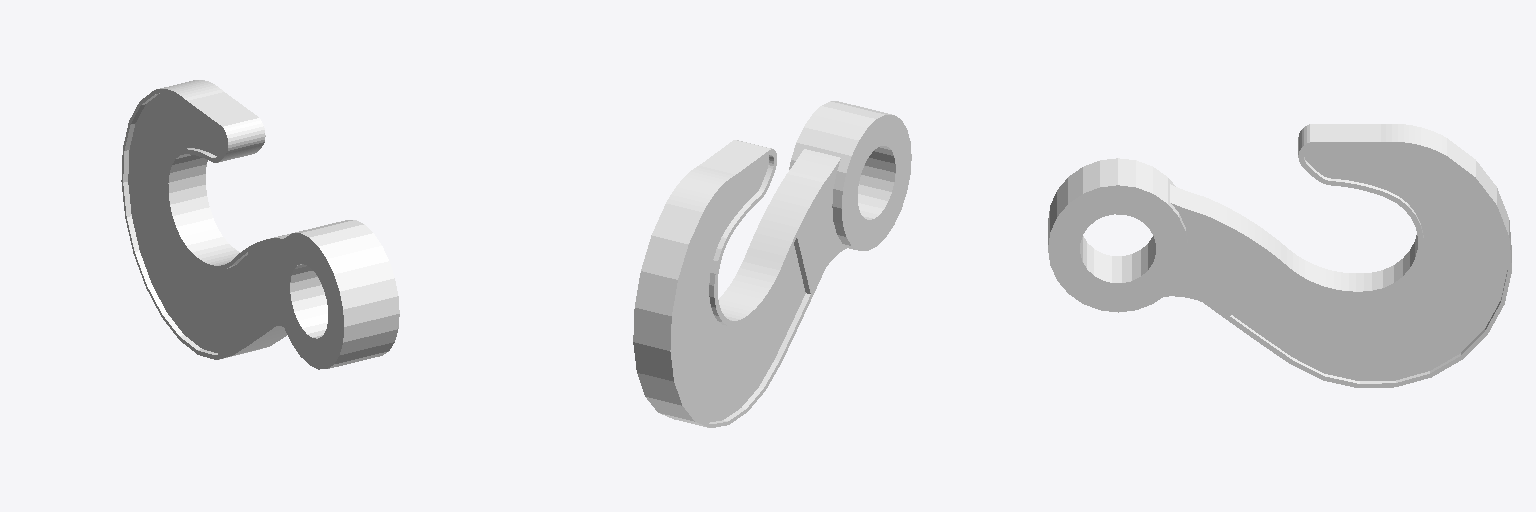
File: hook.obj
The picture shows the model from 3 angles: view 1: azimuth 30°, elevation 25°; view 2: azimuth 150°, elevation 25°; view 3: azimuth 270°, elevation 25°; orthographic projection.
Parts seen in each view (by area): view 1: Gancho_001; view 2: Gancho_001; view 3: Gancho_001.
Part boxes in pixels (bbox=[...]): Gancho_001: bbox=[121, 80, 399, 369]; Gancho_001: bbox=[633, 101, 911, 427]; Gancho_001: bbox=[1048, 124, 1511, 387].
Size of the model in its own units: 0.4512 by 1.92 by 3.27.